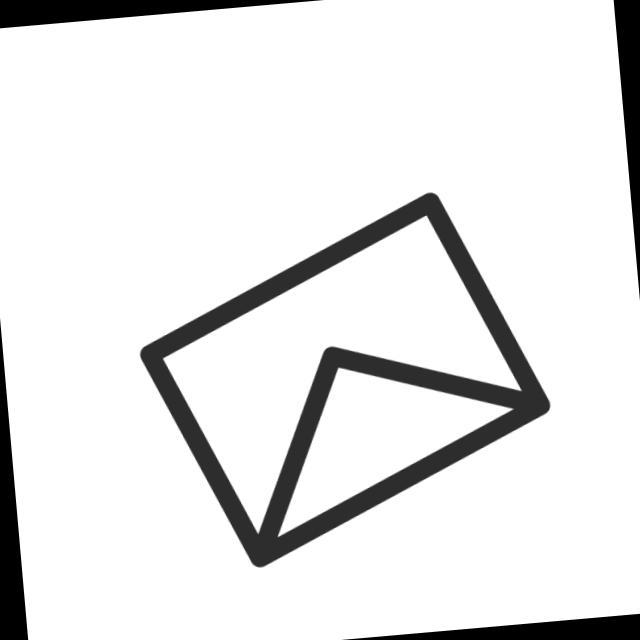letter: (122, 177, 567, 582)
